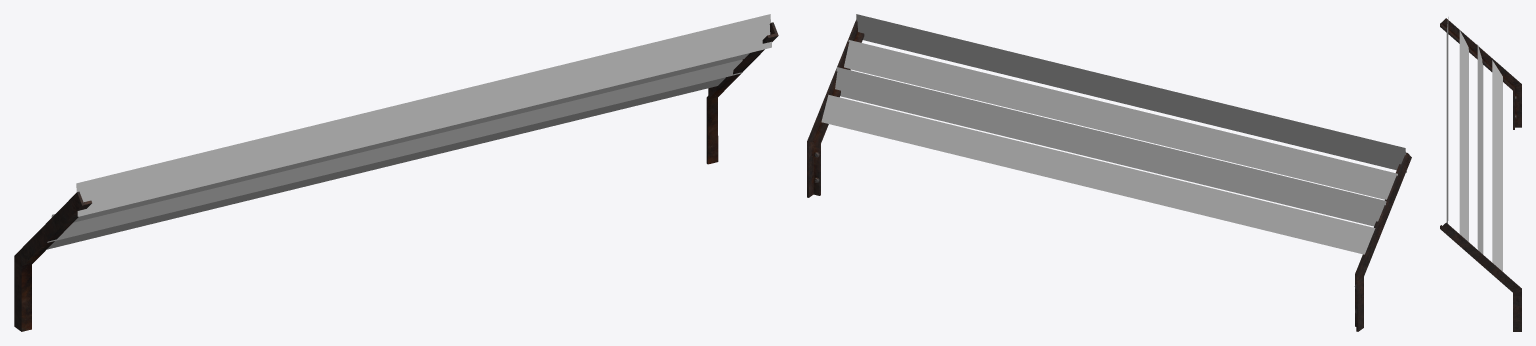
File: SM_fence_rack.FBX
3 views of the same model, side by side, from view 1: azimuth 30°, elevation 25°; view 2: azimuth 150°, elevation 25°; view 3: azimuth 270°, elevation 25° (orthographic). The views are drawn at different scales.
Parts seen in each view (by area): view 1: fence_rack; view 2: fence_rack; view 3: fence_rack.
Boxes of the visible parts, x1=… form: fence_rack: x1=14, y1=14, x2=778, y2=331; fence_rack: x1=807, y1=14, x2=1411, y2=331; fence_rack: x1=1440, y1=17, x2=1521, y2=331.
Size of what is drawn, in the model's own units: 224 by 57.72 by 37.85.
